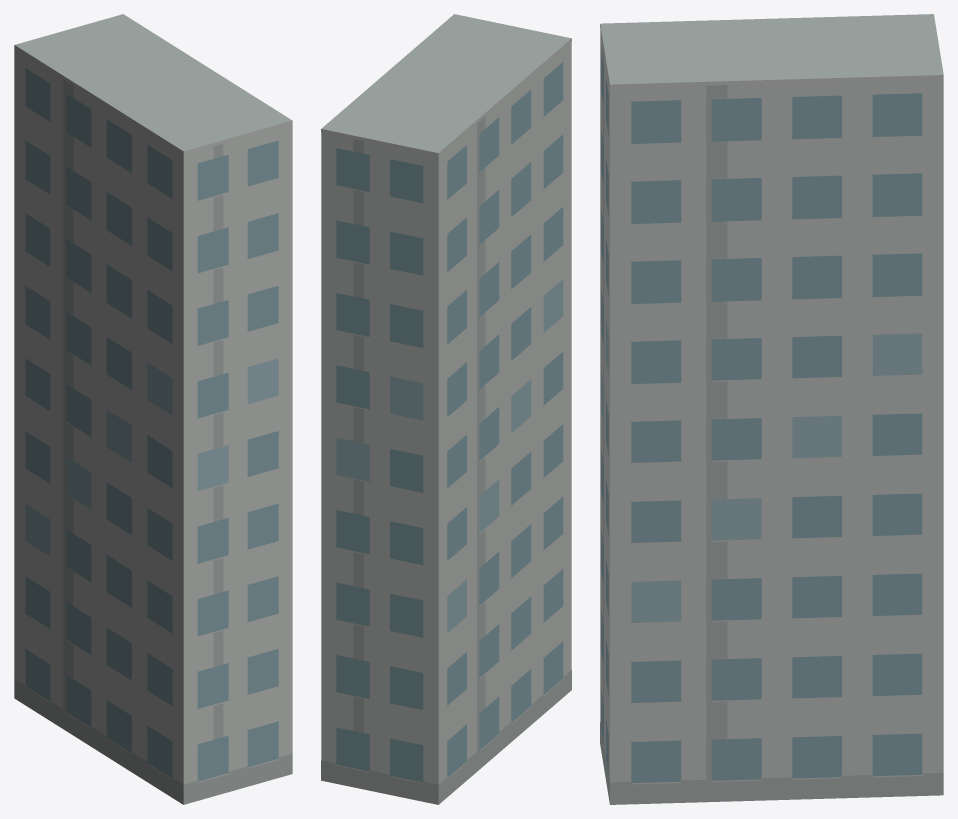
The model's file is residential-9ad981d9-1f6c-4299-9b49-61c9a4d851c2.glb.
3 views of the same model, side by side, from view 1: azimuth 30°, elevation 25°; view 2: azimuth 150°, elevation 25°; view 3: azimuth 270°, elevation 25° (orthographic). The views are drawn at different scales.
Parts seen in each view (by area): view 1: residential-9ad981d9-1f6c-4299-9b49-61c9a4d851c2.tmp; view 2: residential-9ad981d9-1f6c-4299-9b49-61c9a4d851c2.tmp; view 3: residential-9ad981d9-1f6c-4299-9b49-61c9a4d851c2.tmp.
Boxes of the visible parts, <box> form: residential-9ad981d9-1f6c-4299-9b49-61c9a4d851c2.tmp: <box>14,14,292,804</box>; residential-9ad981d9-1f6c-4299-9b49-61c9a4d851c2.tmp: <box>321,14,571,804</box>; residential-9ad981d9-1f6c-4299-9b49-61c9a4d851c2.tmp: <box>600,14,943,804</box>.
Size of the model in its own units: 9.67 by 46 by 19.89.
